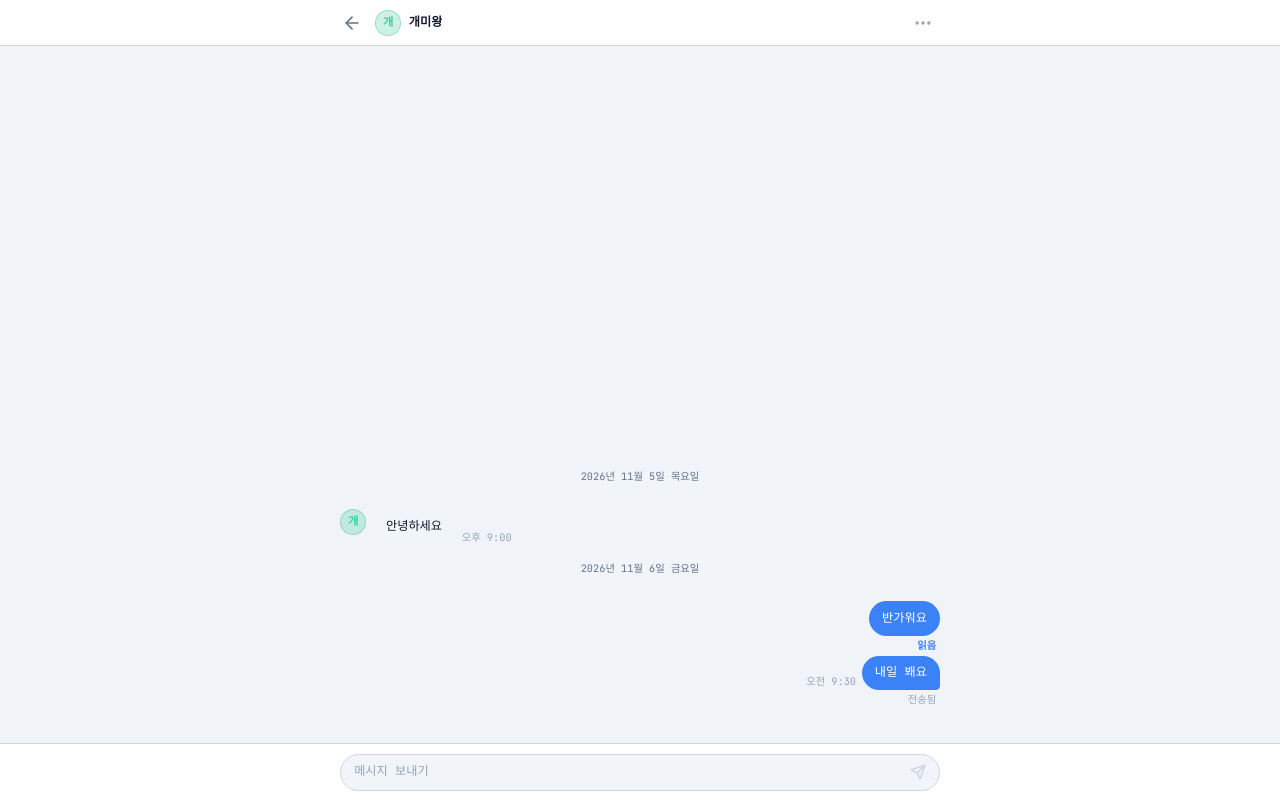
Test: 보내기 › 곧바로 말풍선(보내는 중) → 서버가 받으면 시각, 입력칸은 비운다
Expected: the button "안녕하세요" is shown, [372,509,456,546]
In the text box named "메시지 쓰기": [628, 772] box [354,762,902,782], type "  잘 지내요?  "
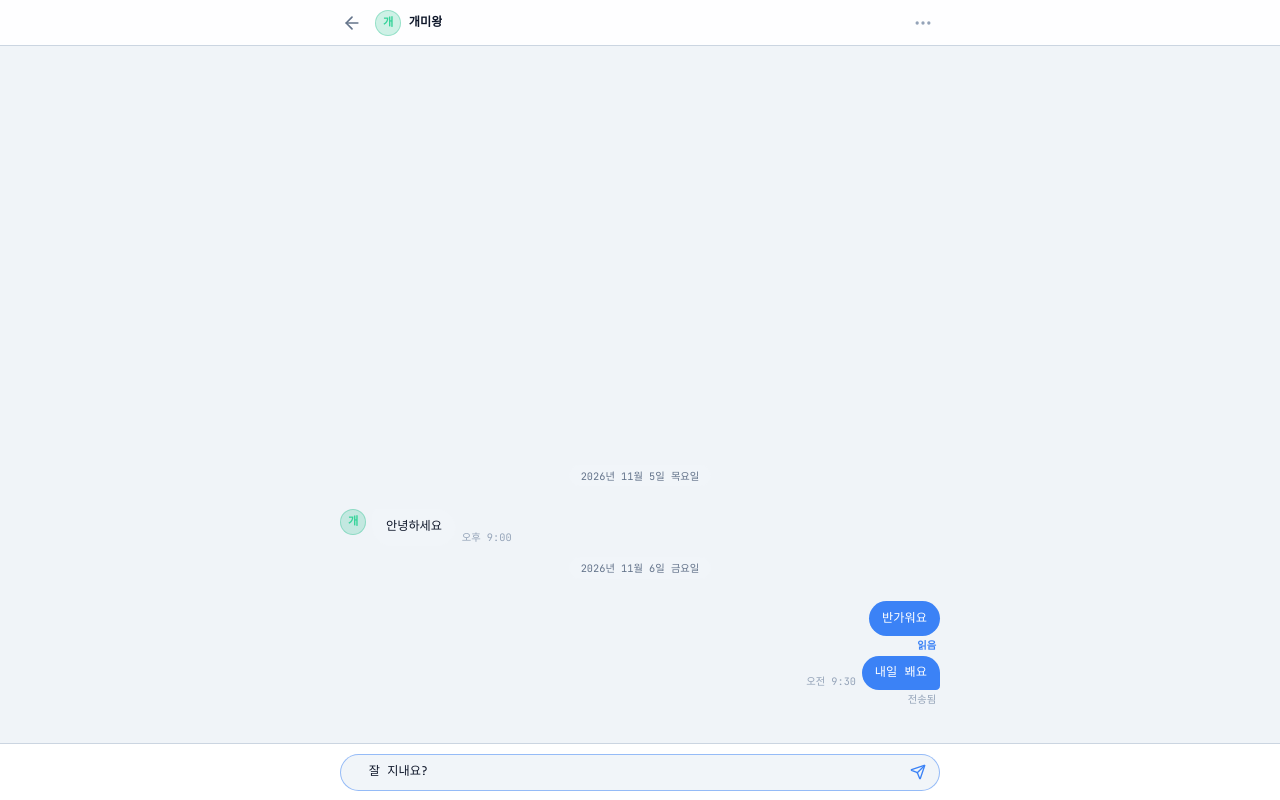
Click the button named "보내기": [918, 772] box [910,764,926,780]
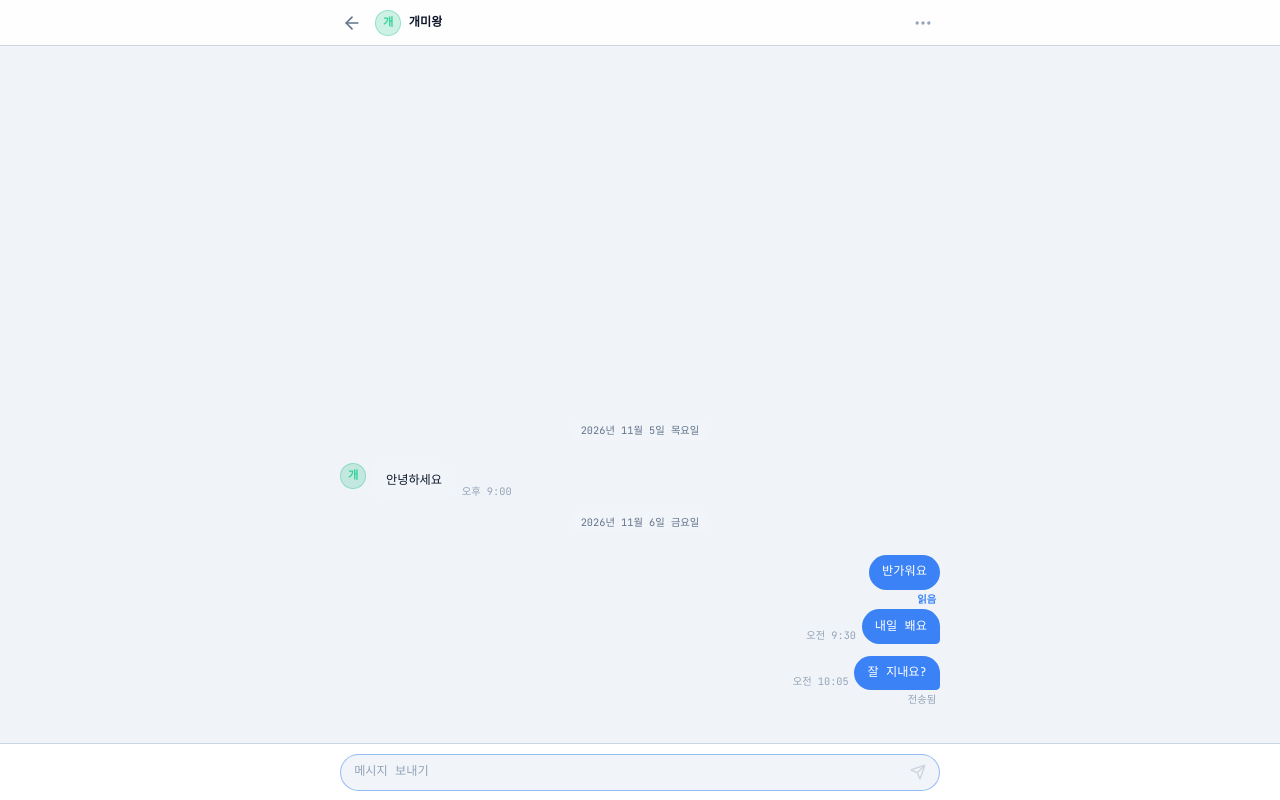
Expected: the text box named "메시지 쓰기" is empty, [354,762,902,782]
Expected: the element "잘 지내요?" shows "오전 10:05", [793,674,849,688]
